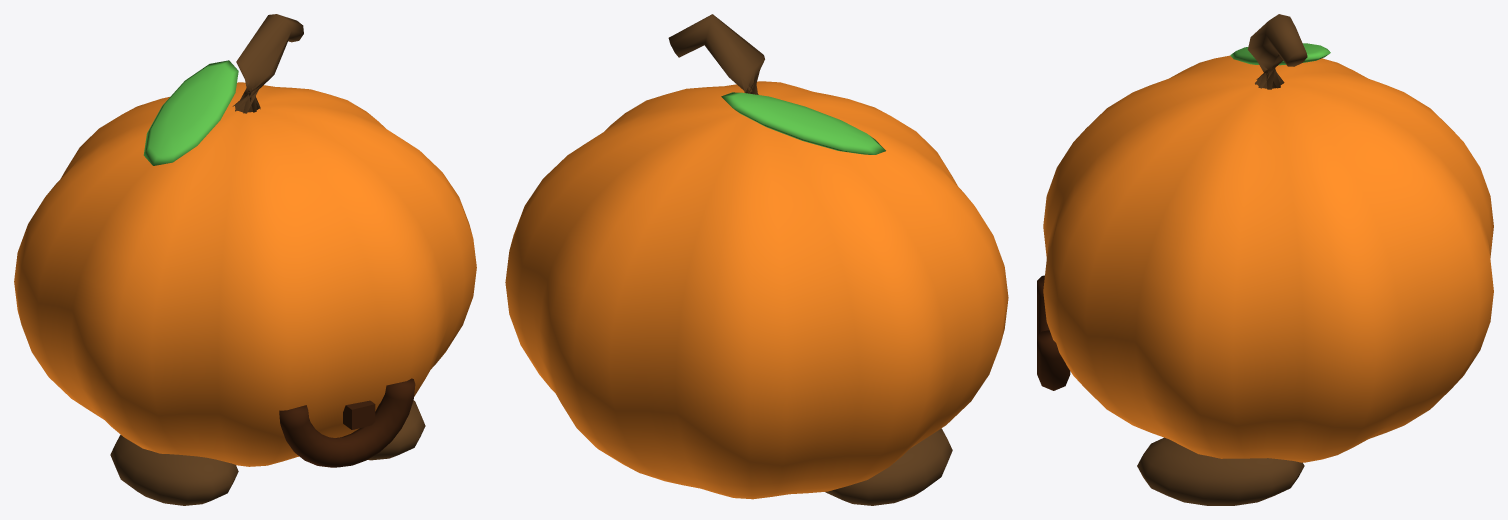
Rendered from H01_PumpkinPip.fbx.
The picture shows the model from 3 angles, left to right: view 1: azimuth 30°, elevation 25°; view 2: azimuth 150°, elevation 25°; view 3: azimuth 270°, elevation 25°; orthographic projection. The views are drawn at different scales.
Visible parts, largest first — view 1: H01_PumpkinPip__Body, H01_PumpkinPip__Stem, H01_PumpkinPip__Mouth, H01_PumpkinPip__Leaf; view 2: H01_PumpkinPip__Body, H01_PumpkinPip__Stem, H01_PumpkinPip__Leaf; view 3: H01_PumpkinPip__Body, H01_PumpkinPip__Stem, H01_PumpkinPip__Mouth, H01_PumpkinPip__Leaf.
Part boxes in pixels (left/top/right/bottom): H01_PumpkinPip__Body: left=14, top=82, right=476, bottom=466; H01_PumpkinPip__Stem: left=110, top=14, right=425, bottom=505; H01_PumpkinPip__Mouth: left=279, top=378, right=415, bottom=467; H01_PumpkinPip__Leaf: left=143, top=60, right=238, bottom=165; H01_PumpkinPip__Body: left=505, top=81, right=1008, bottom=499; H01_PumpkinPip__Stem: left=668, top=14, right=952, bottom=505; H01_PumpkinPip__Leaf: left=721, top=92, right=885, bottom=154; H01_PumpkinPip__Body: left=1043, top=55, right=1493, bottom=462; H01_PumpkinPip__Stem: left=1137, top=14, right=1307, bottom=505; H01_PumpkinPip__Mouth: left=1037, top=275, right=1070, bottom=390; H01_PumpkinPip__Leaf: left=1230, top=43, right=1330, bottom=65.
Size of the model in its own units: 1.98 by 2.09 by 1.91.
